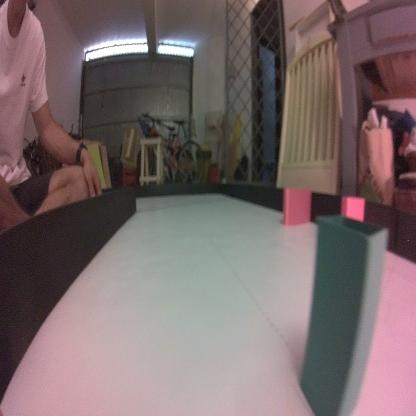green: (298, 213, 388, 416)
magenta: (283, 184, 312, 228)
